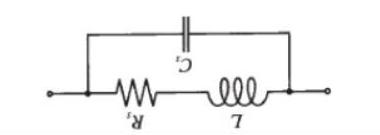inductor: (195, 68, 271, 108)
